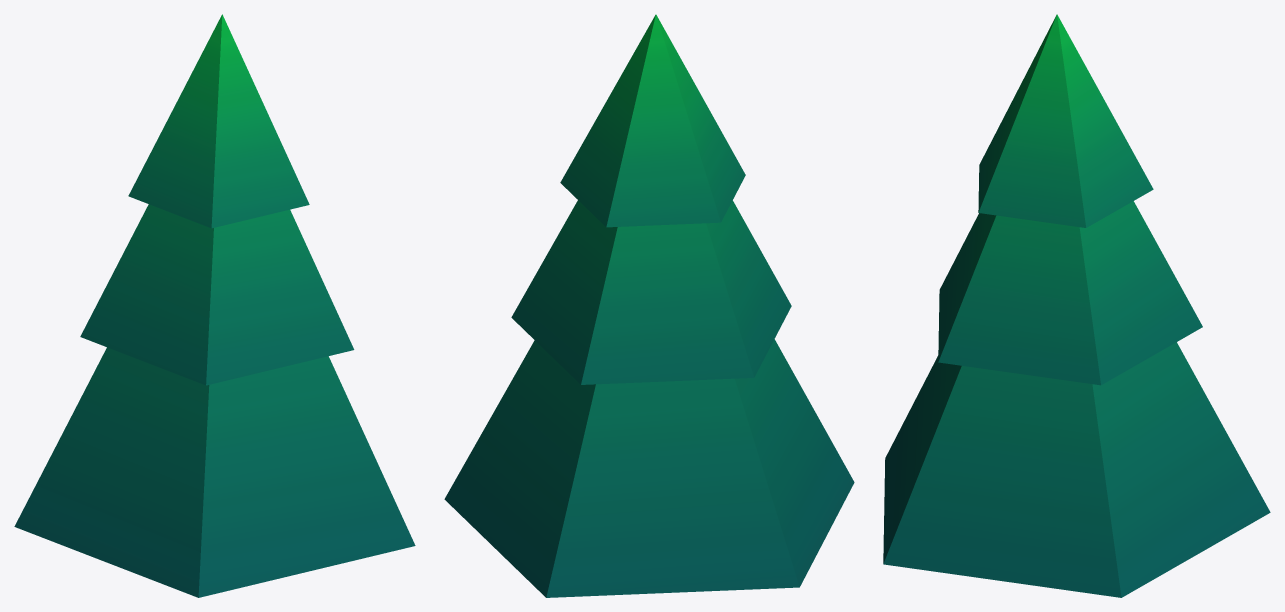
Rendered from NewMainCity_Building_Tree.fbx.
3 views of the same model, side by side, from view 1: azimuth 30°, elevation 25°; view 2: azimuth 150°, elevation 25°; view 3: azimuth 270°, elevation 25° (orthographic). The views are drawn at different scales.
Parts seen in each view (by area): view 1: NewMainCity_Building_Tree; view 2: NewMainCity_Building_Tree; view 3: NewMainCity_Building_Tree.
Boxes of the visible parts, <box> form: NewMainCity_Building_Tree: <box>14,14,415,597</box>; NewMainCity_Building_Tree: <box>444,14,854,597</box>; NewMainCity_Building_Tree: <box>883,14,1270,597</box>.
Bounding box in the file's own units: 736 × 995 × 702.
